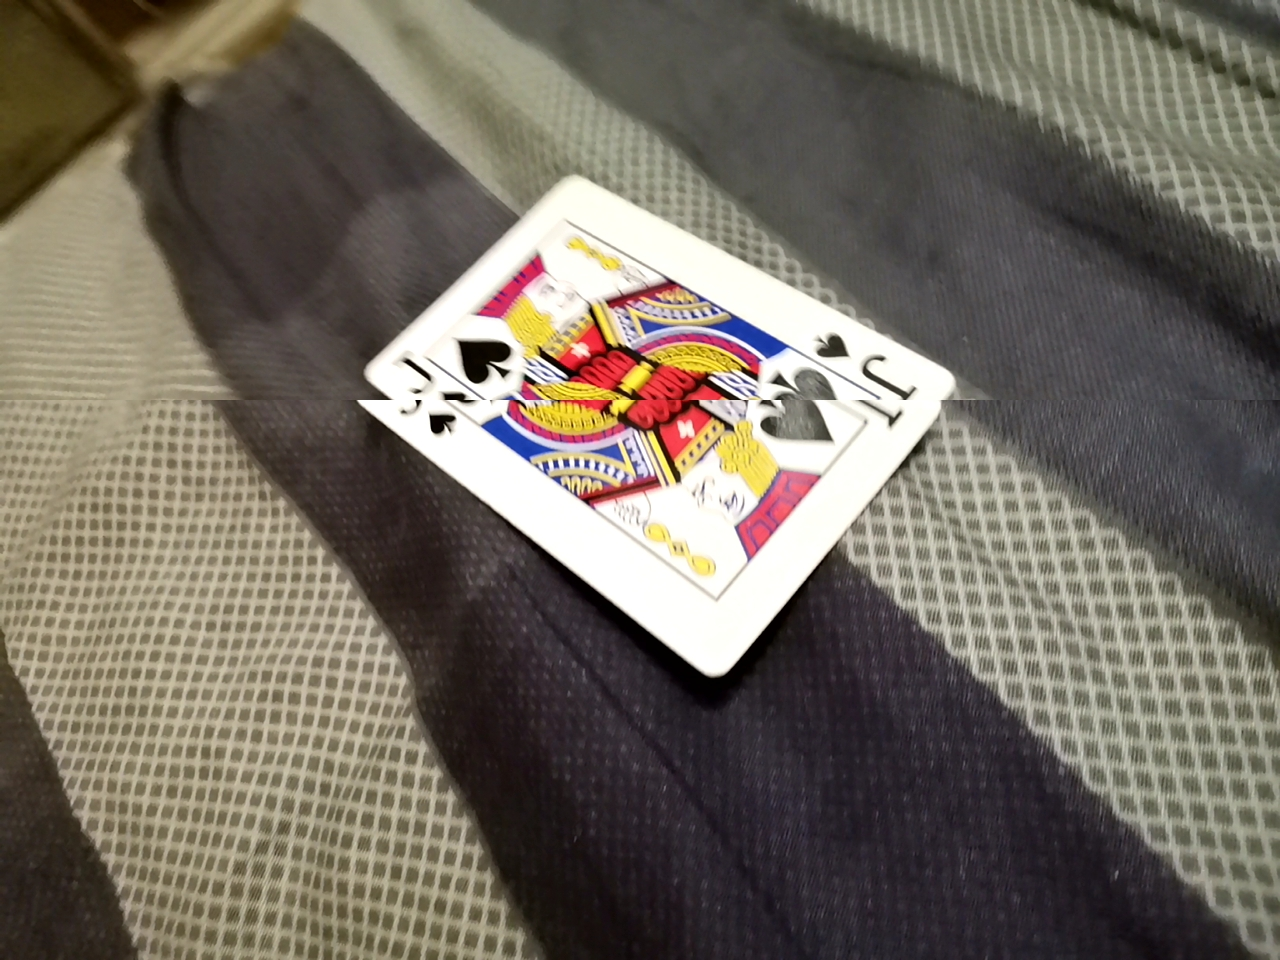ht j: (352, 184, 945, 666)
